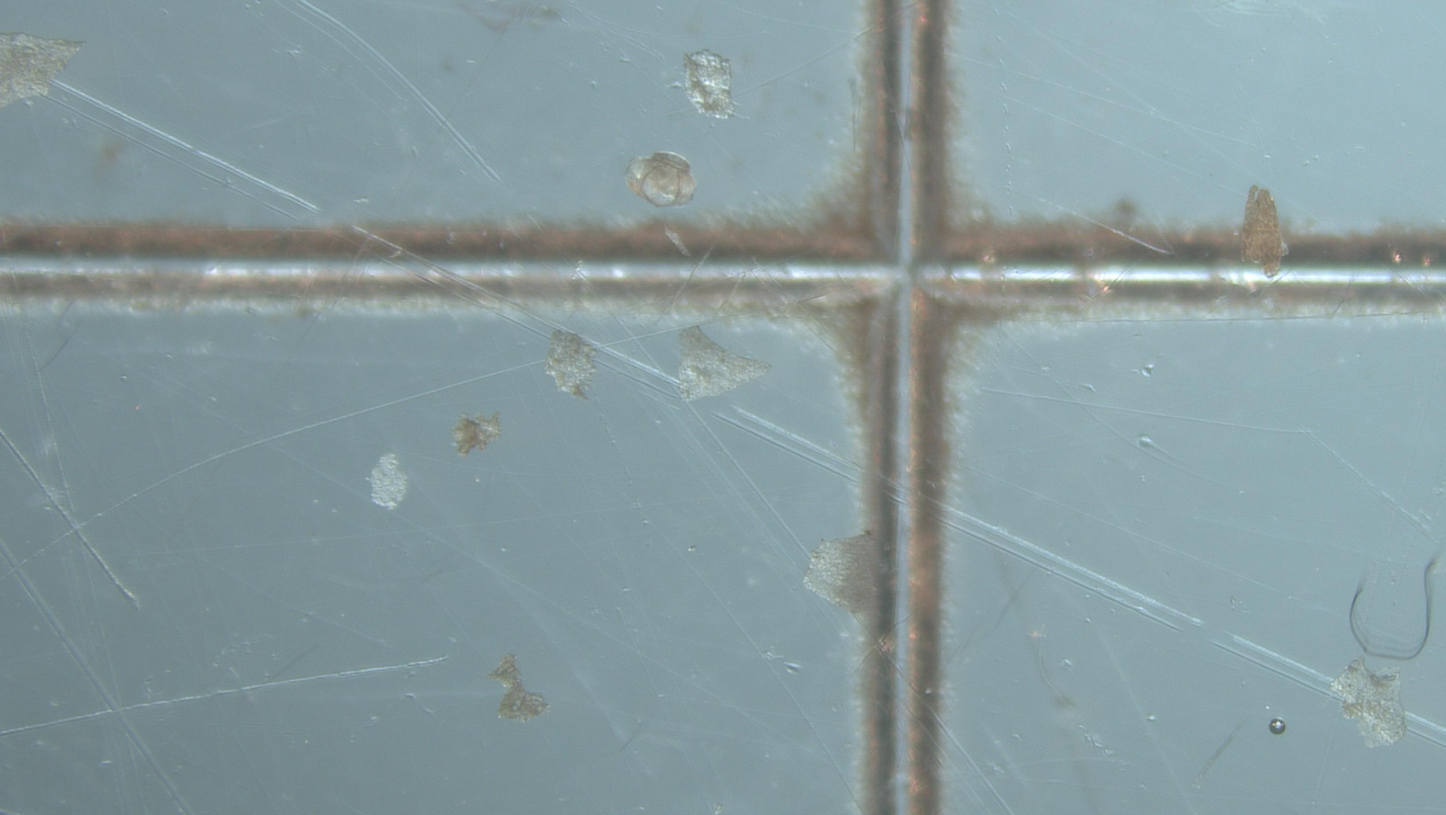dead: (642, 166, 685, 206)
